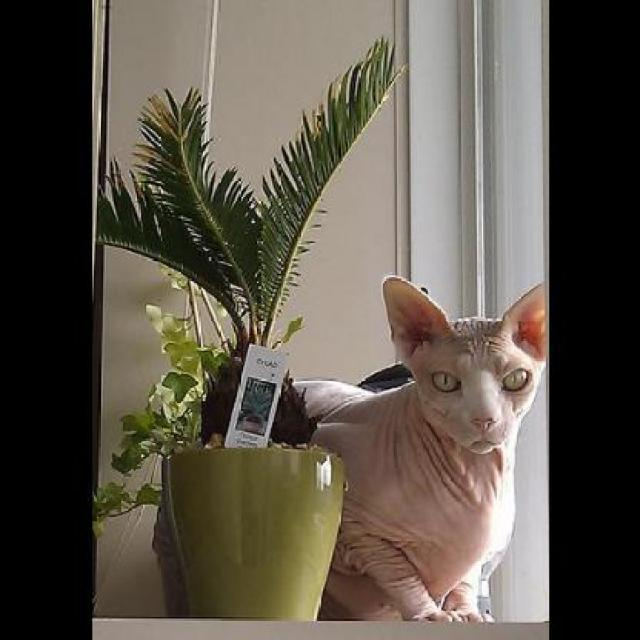unauthorized: (298, 274, 548, 623)
